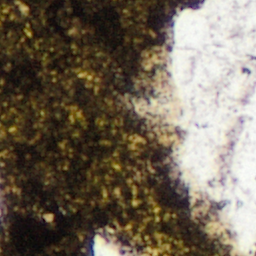cement_matrix: (0, 0, 231, 255)
gravel_crushed_stones: (132, 0, 255, 255), (92, 233, 163, 255)
